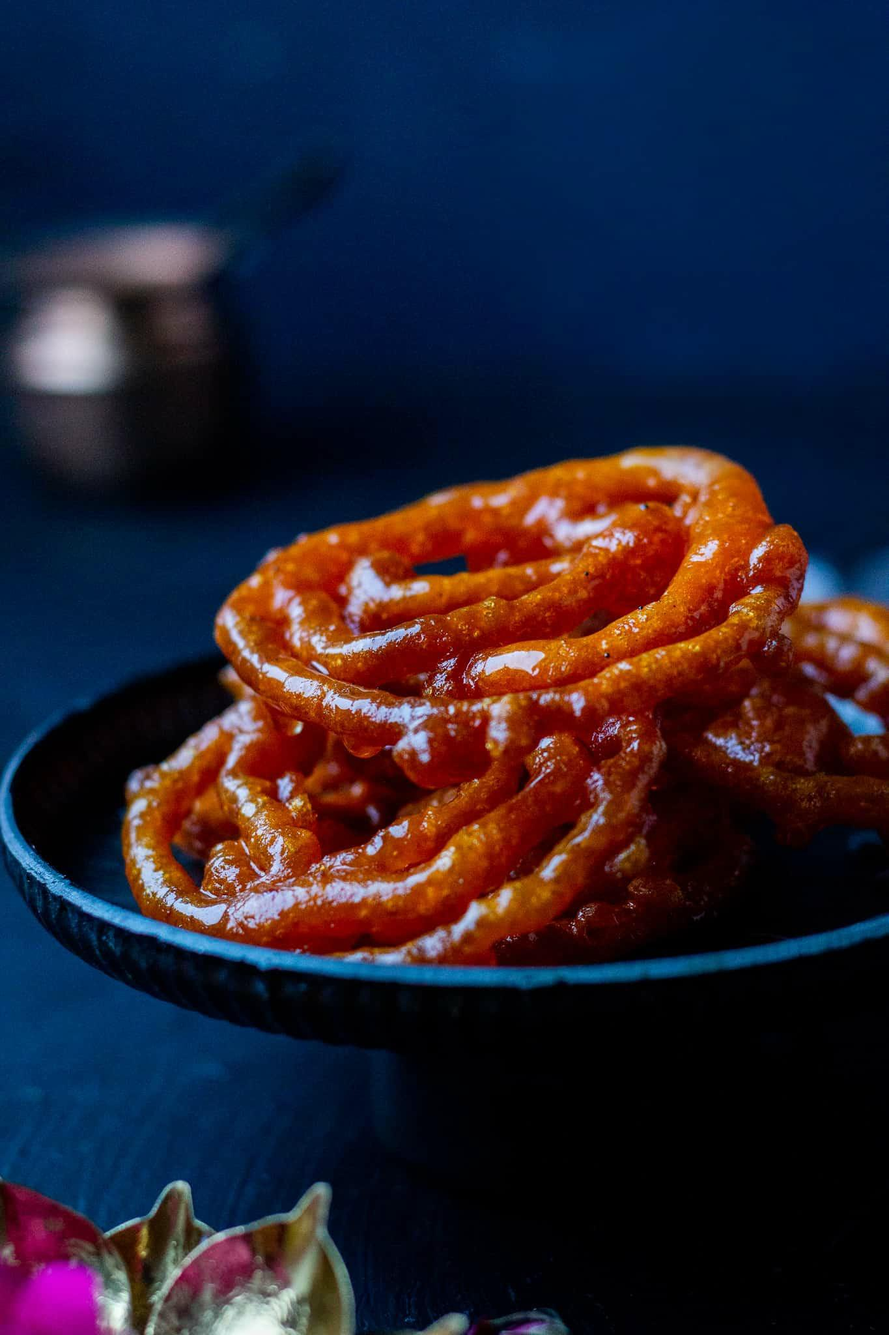Jalebi: (118, 428, 889, 974)
